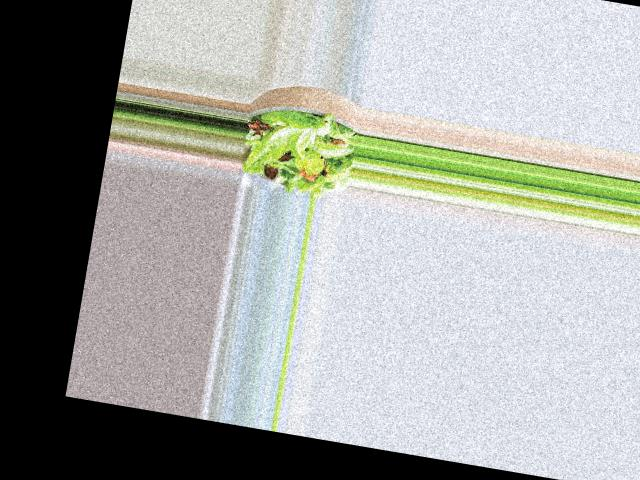lettuce: (247, 104, 354, 197)
